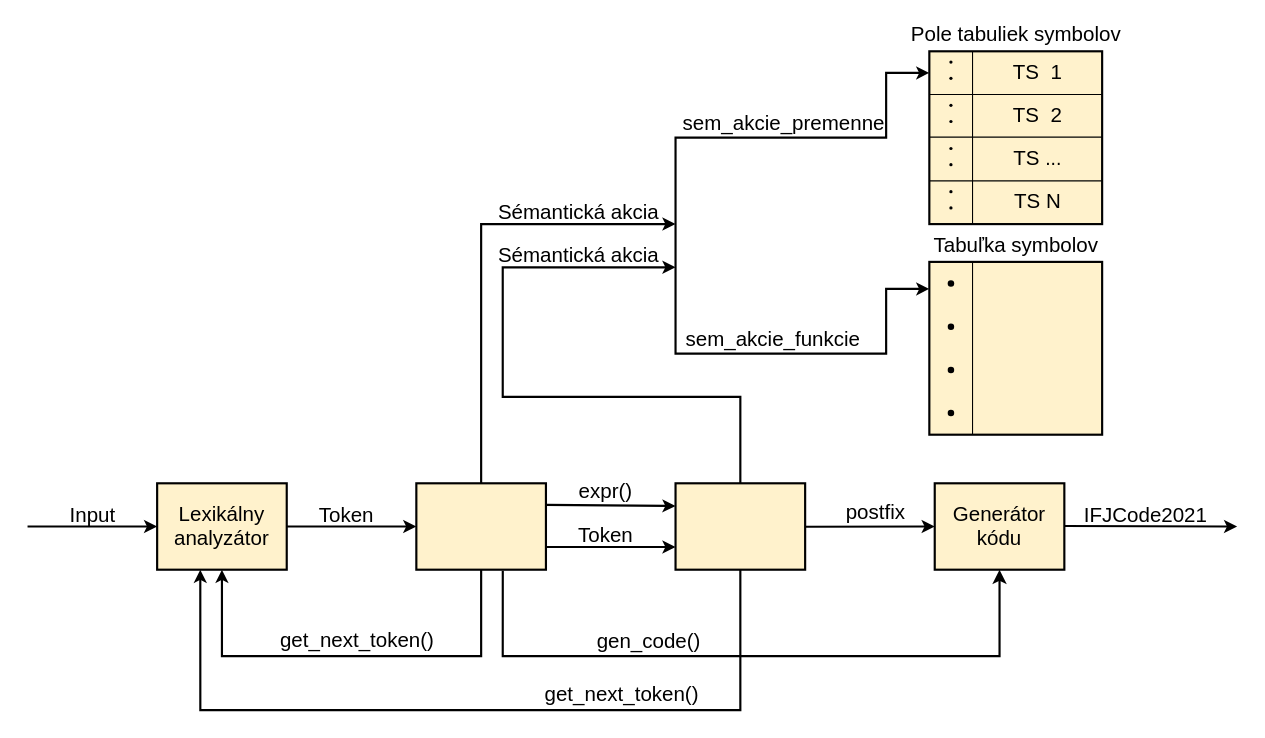
The diagram is 1265 pixels wide and 738 high, and some of its shapes have lost their labels. Here are the shapes that lost their labels. From the top down, the box of each, then its label:
(415, 482, 546, 570): Syntaktický analyzátor
(674, 482, 806, 570): PSA
